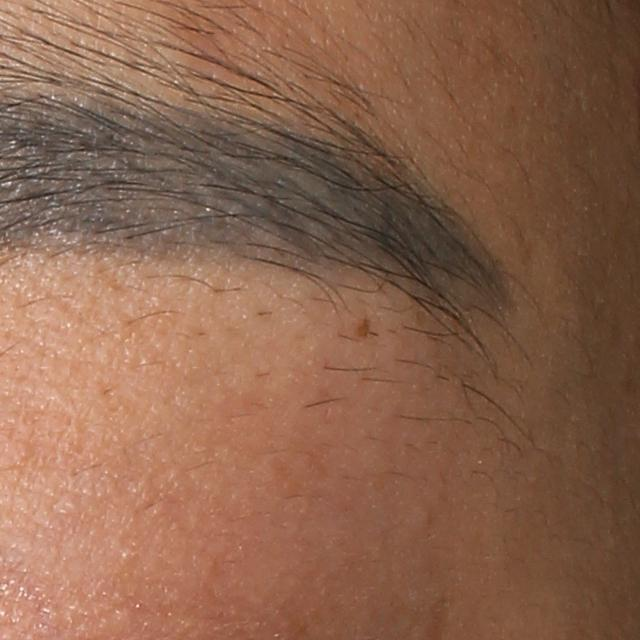nevus: (355, 317, 374, 341)
